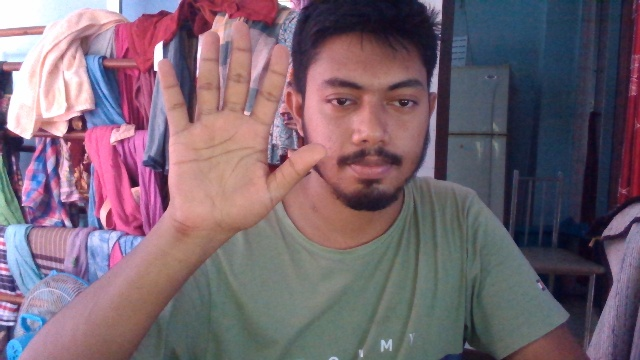hello: (156, 20, 329, 243)
